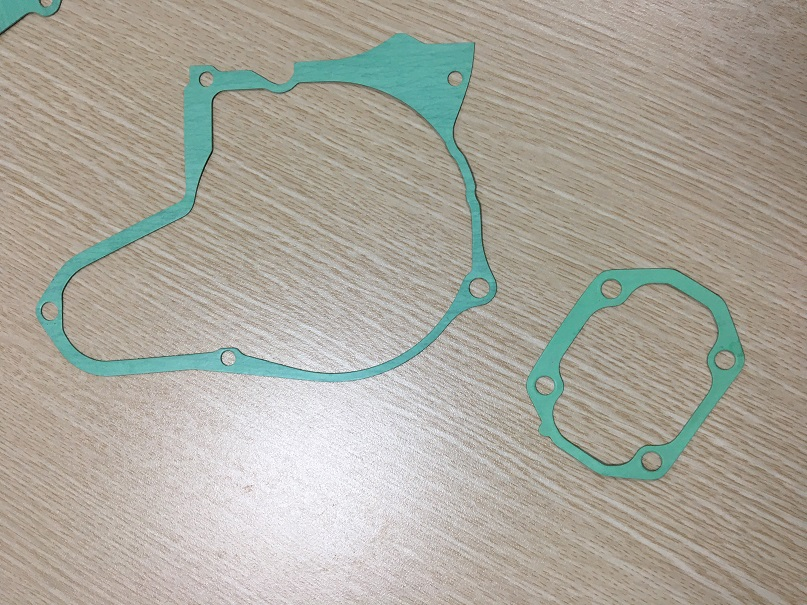type1: (28, 33, 514, 395)
type2: (517, 261, 749, 482)
